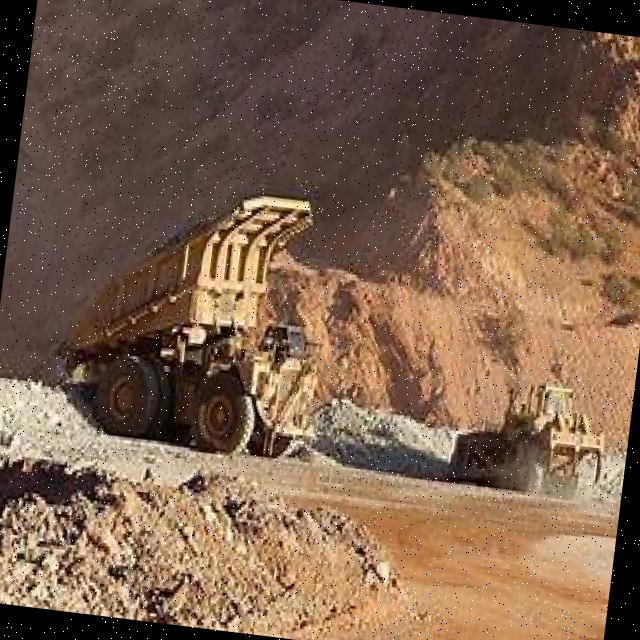Bulldozer: (437, 354, 620, 514)
Dump Truck: (44, 164, 344, 468)
